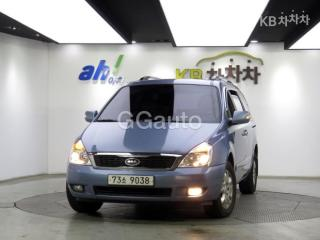0: (135, 176, 140, 185)
3: (117, 175, 122, 184), (140, 176, 145, 184)
7: (111, 175, 117, 184)
8: (145, 176, 150, 185)
9: (129, 176, 134, 184)
소: (121, 176, 127, 184)
